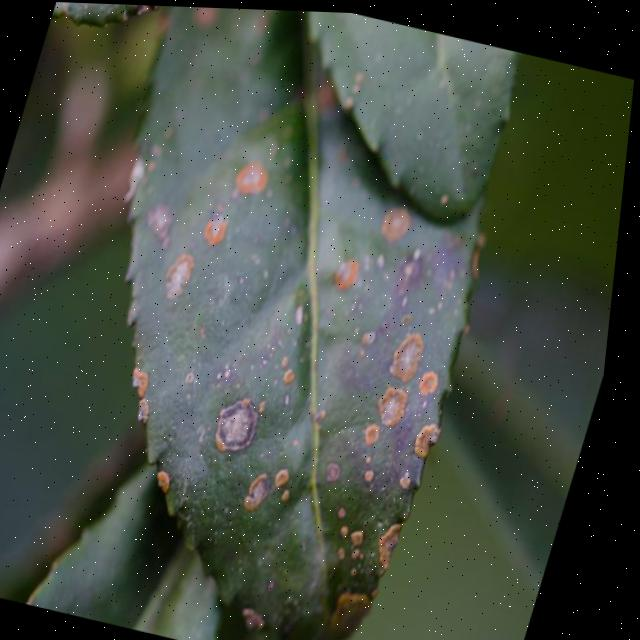Tea algae leaf spot: (20, 104, 529, 640)
